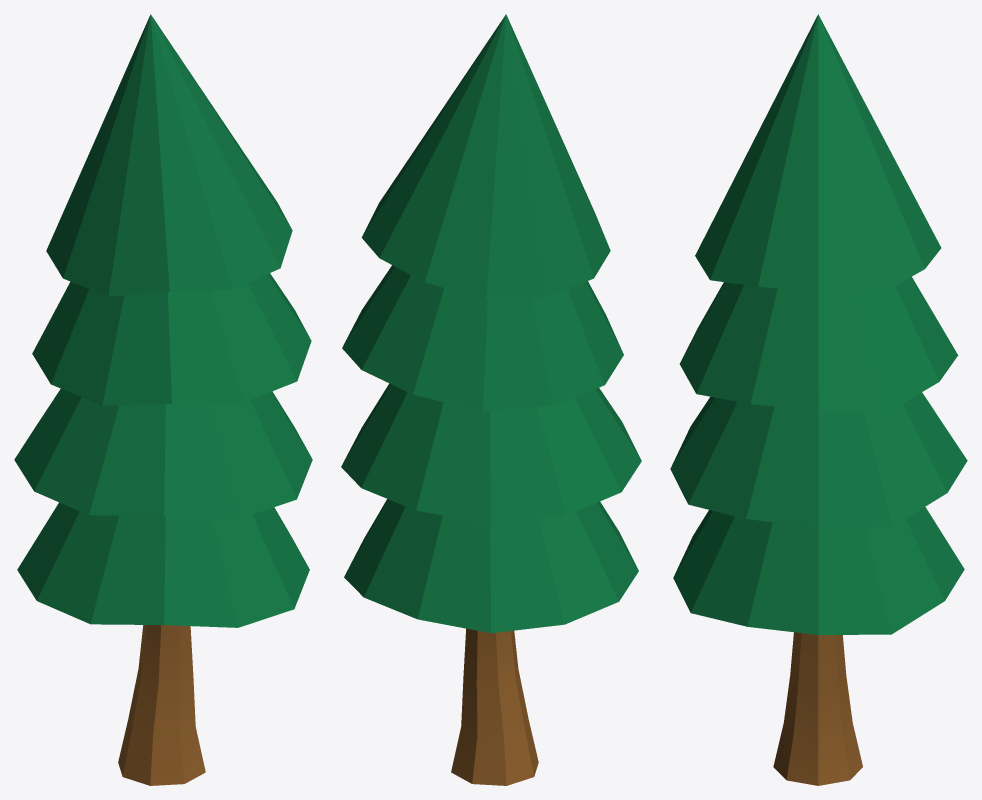
Rendered from Tree 2.fbx.
3 views of the same model, side by side, from view 1: azimuth 30°, elevation 25°; view 2: azimuth 150°, elevation 25°; view 3: azimuth 270°, elevation 25° (orthographic).
Parts seen in each view (by area): view 1: pCylinder6; view 2: pCylinder6; view 3: pCylinder6.
Part boxes in pixels (x1,y1,x2,y2): pCylinder6: [14, 14, 312, 785]; pCylinder6: [341, 14, 641, 785]; pCylinder6: [670, 14, 967, 785].
Size of the model in its own units: 330 by 917 by 330.
